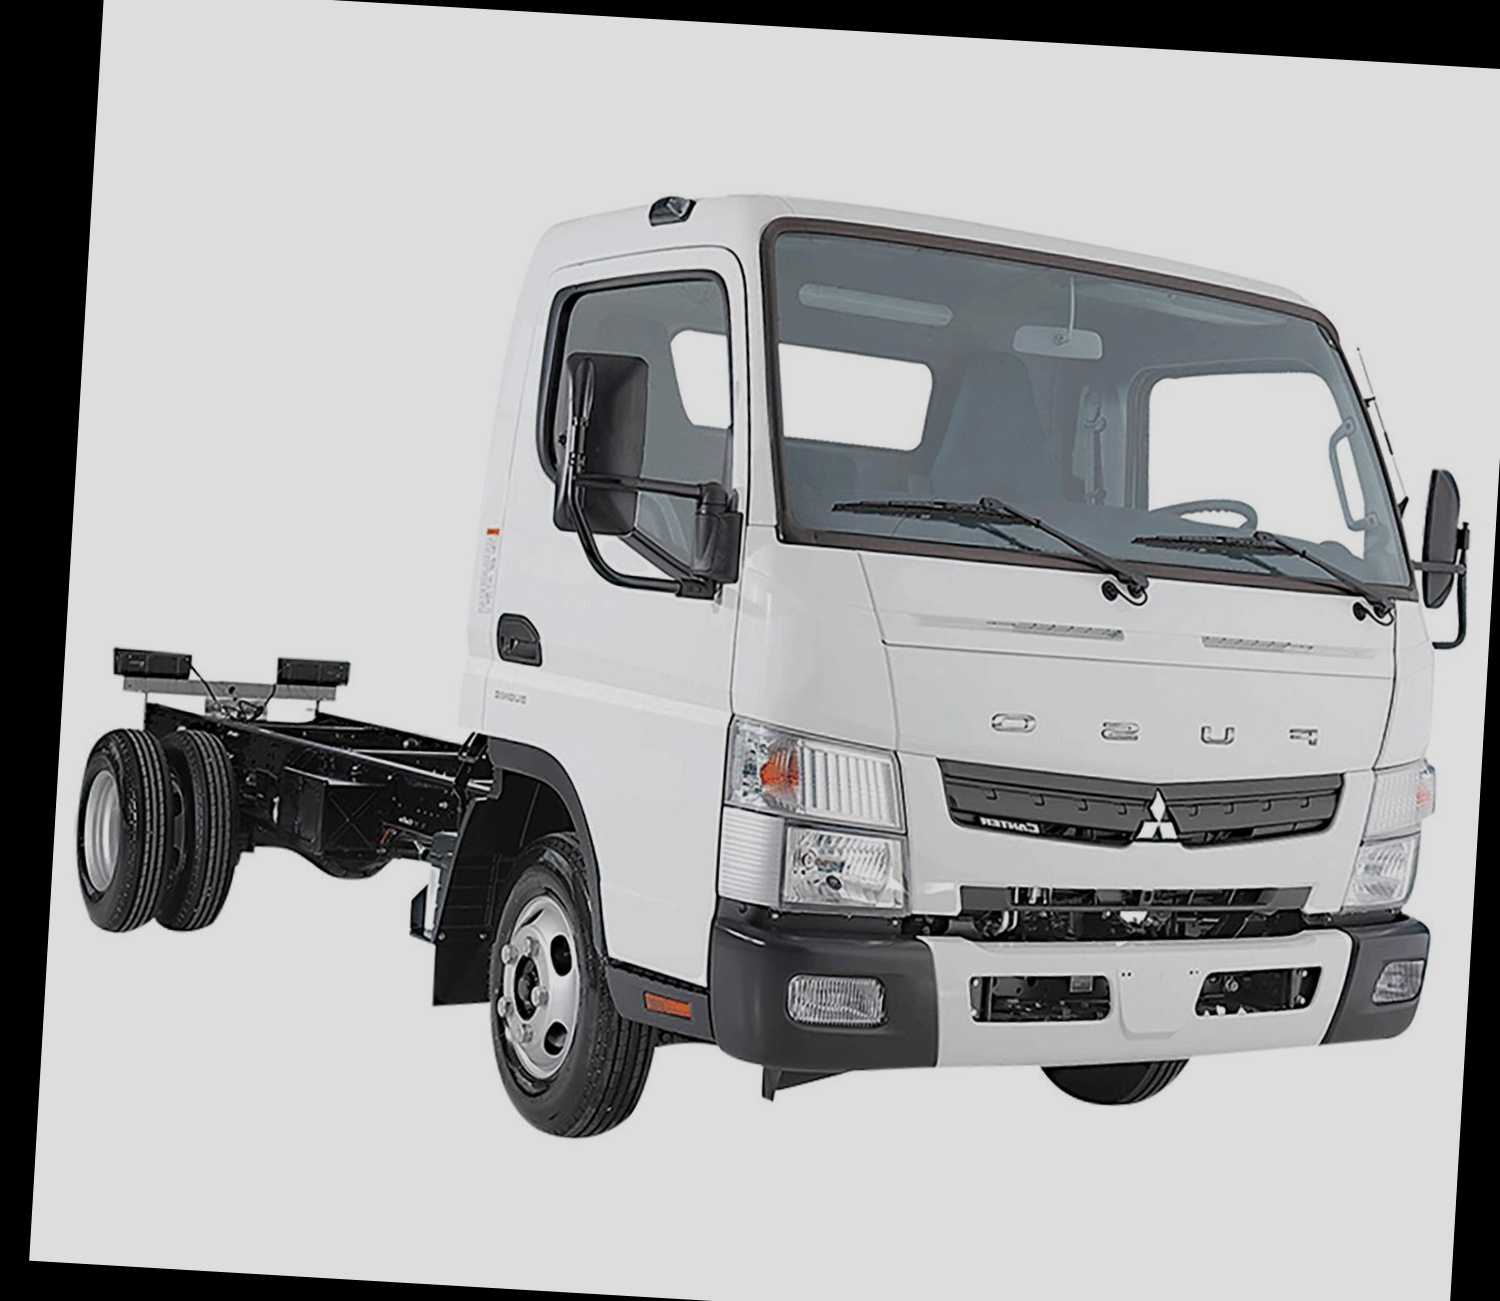truck: (64, 154, 1500, 1186)
